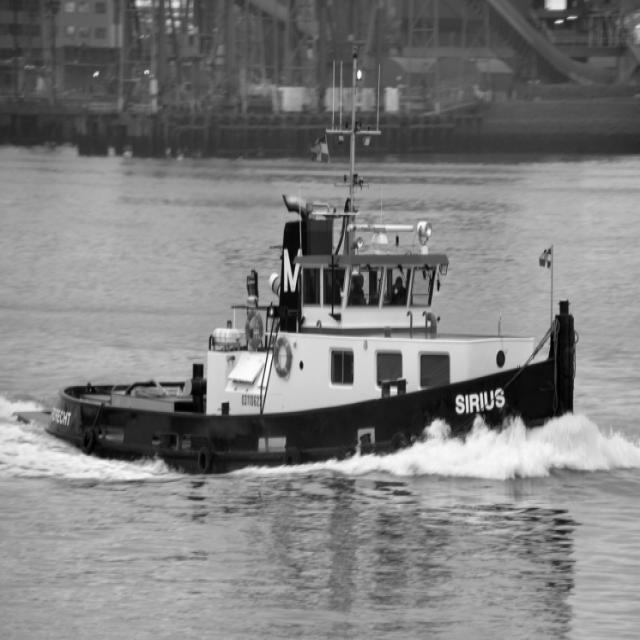tugboat: (10, 123, 582, 488)
